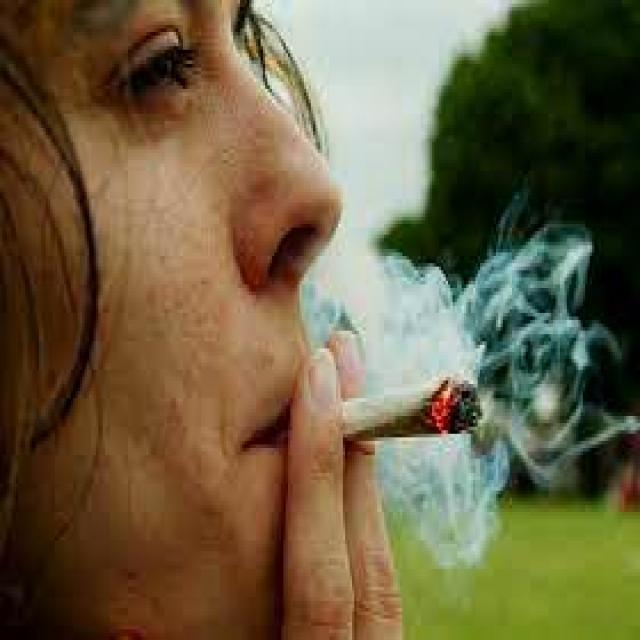cigarette: (336, 366, 487, 452)
